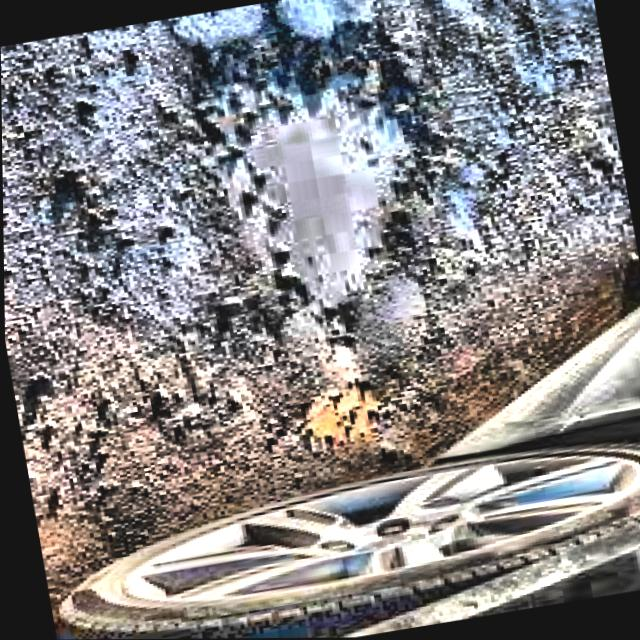pothole: (204, 77, 408, 309)
